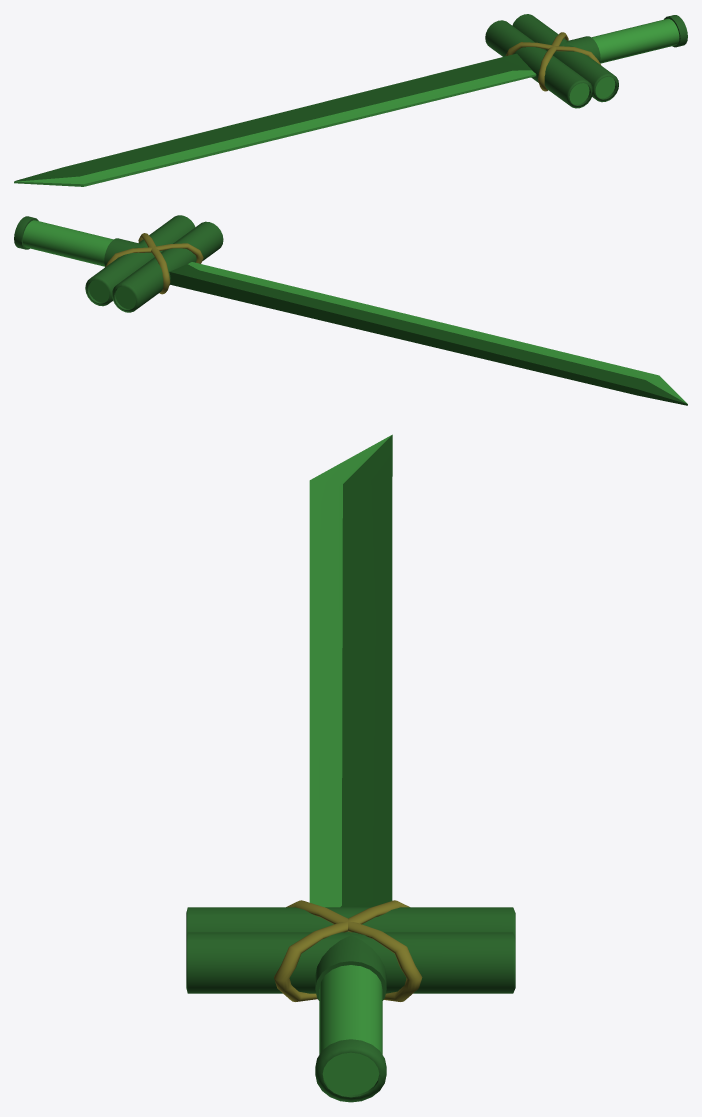
Rendered from sword.fbx.
3 views of the same model, one above another, from view 1: azimuth 30°, elevation 25°; view 2: azimuth 150°, elevation 25°; view 3: azimuth 270°, elevation 25° (orthographic). The views are drawn at different scales.
Visible parts, largest first — view 1: pTorus2; view 2: pTorus2; view 3: pTorus2.
Part boxes in pixels (bbox=[...]): pTorus2: bbox=[14, 14, 687, 186]; pTorus2: bbox=[14, 215, 687, 405]; pTorus2: bbox=[186, 434, 515, 1102].
Bounding box in the file's own units: 22.68 × 1.09 × 4.94.
